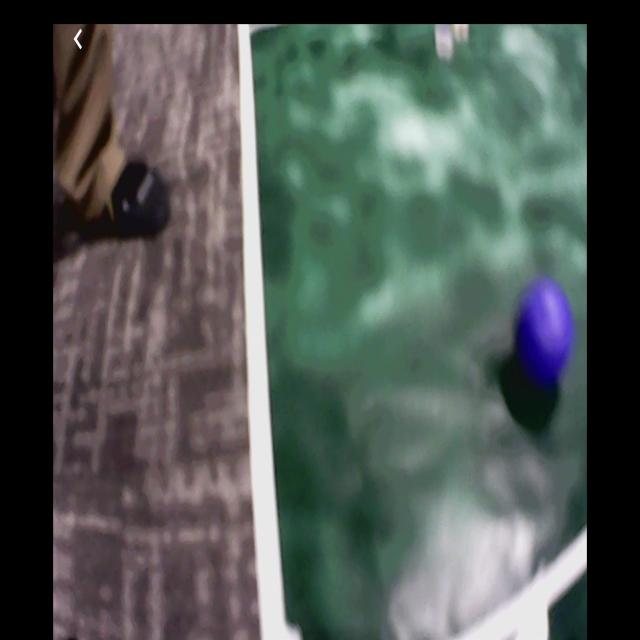ball: (515, 282, 574, 382)
